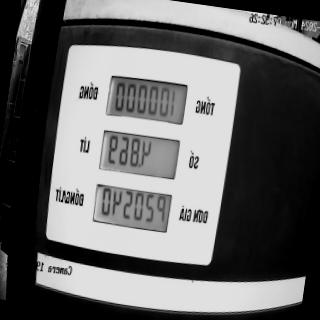screen: (88, 70, 190, 235)
